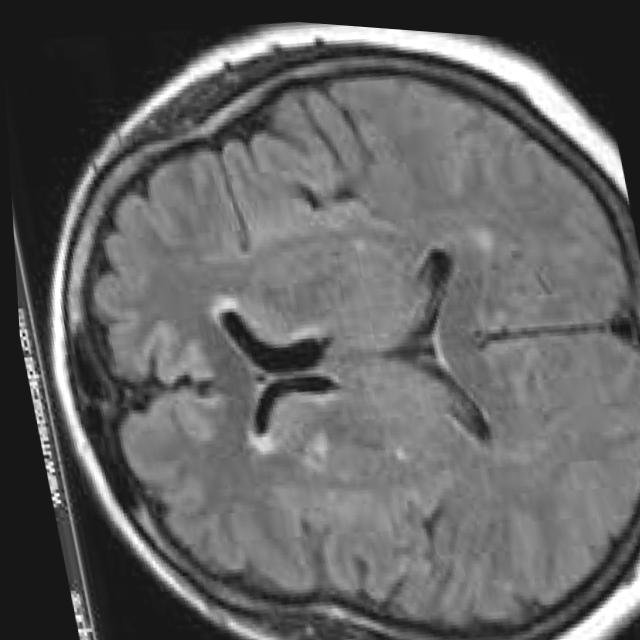NoTumor: (37, 10, 640, 640)
